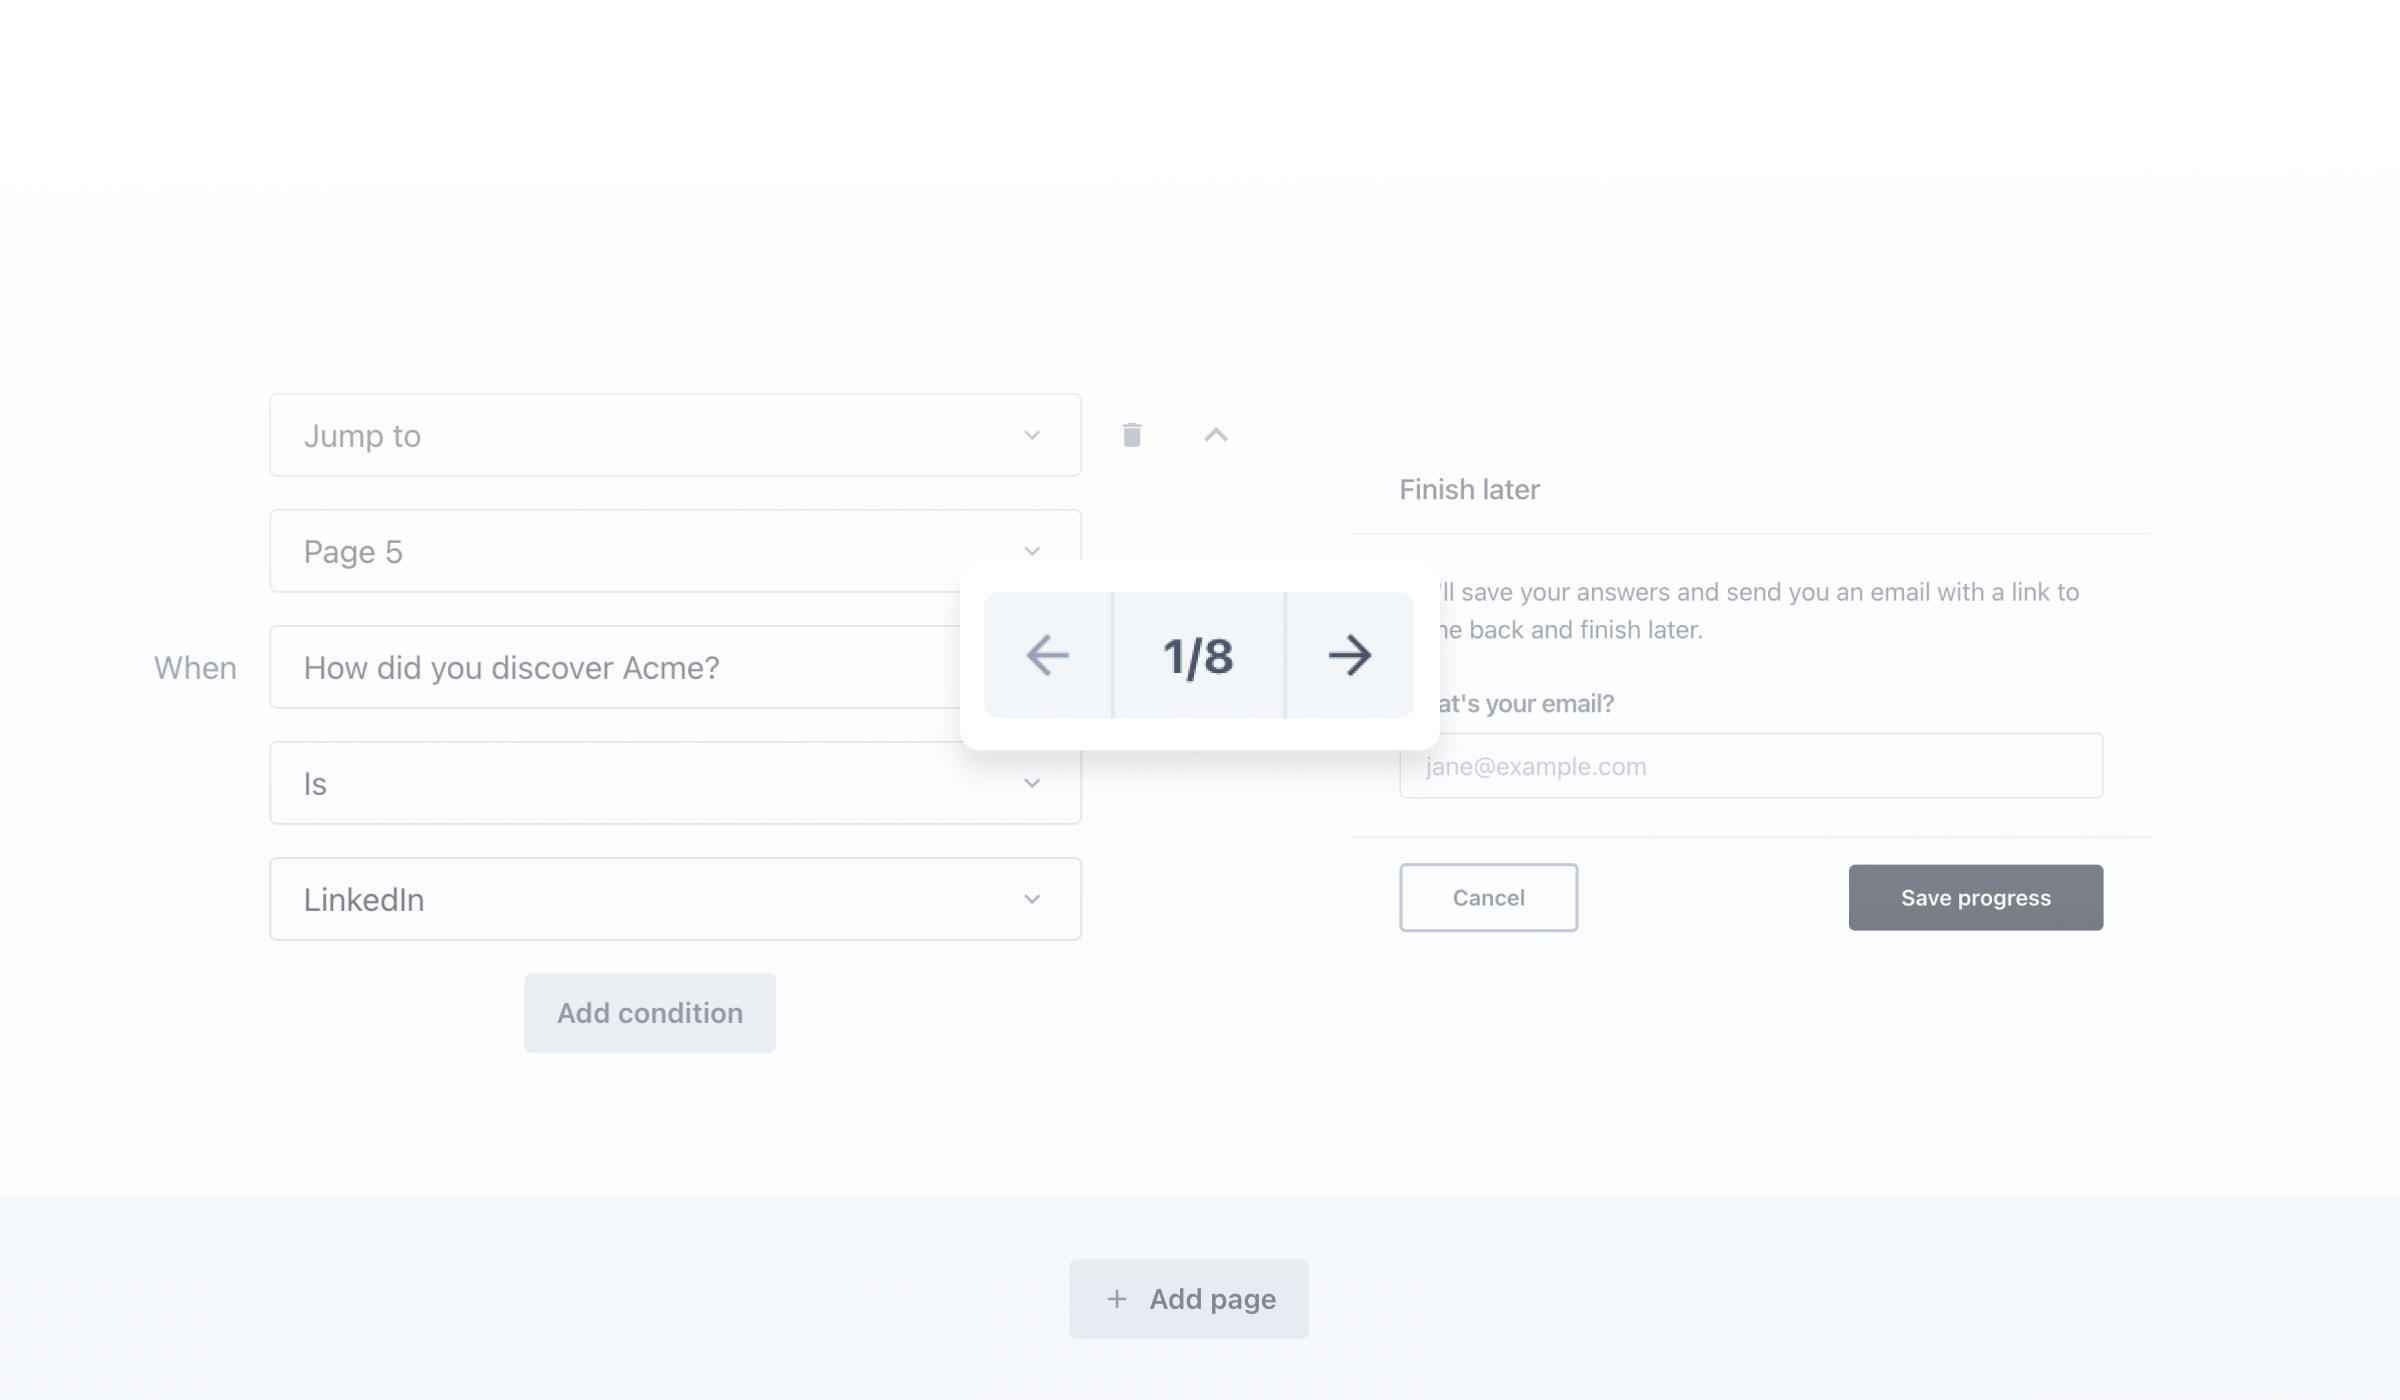button: (527, 973, 782, 1053), (1073, 1258, 1307, 1338), (1848, 863, 2107, 932), (1398, 862, 1580, 937)
dropdown: (272, 502, 1088, 603), (265, 852, 1085, 945), (267, 392, 1085, 483), (263, 738, 1082, 828)
icon: (1322, 627, 1390, 688), (1025, 623, 1078, 685), (1118, 415, 1147, 453), (1202, 423, 1228, 452)
input: (272, 633, 957, 703)
label: (147, 648, 250, 690)
